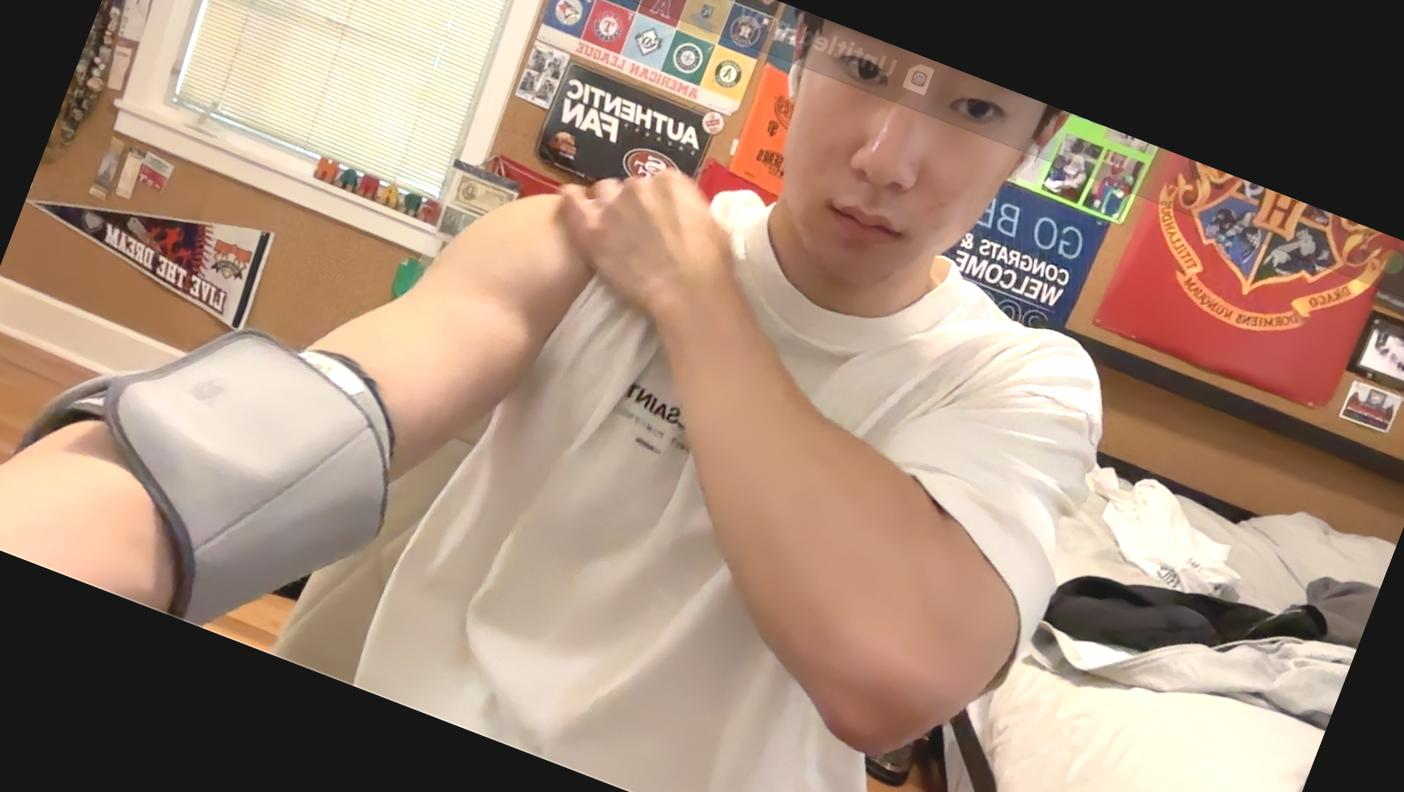cuff: (0, 254, 445, 678)
